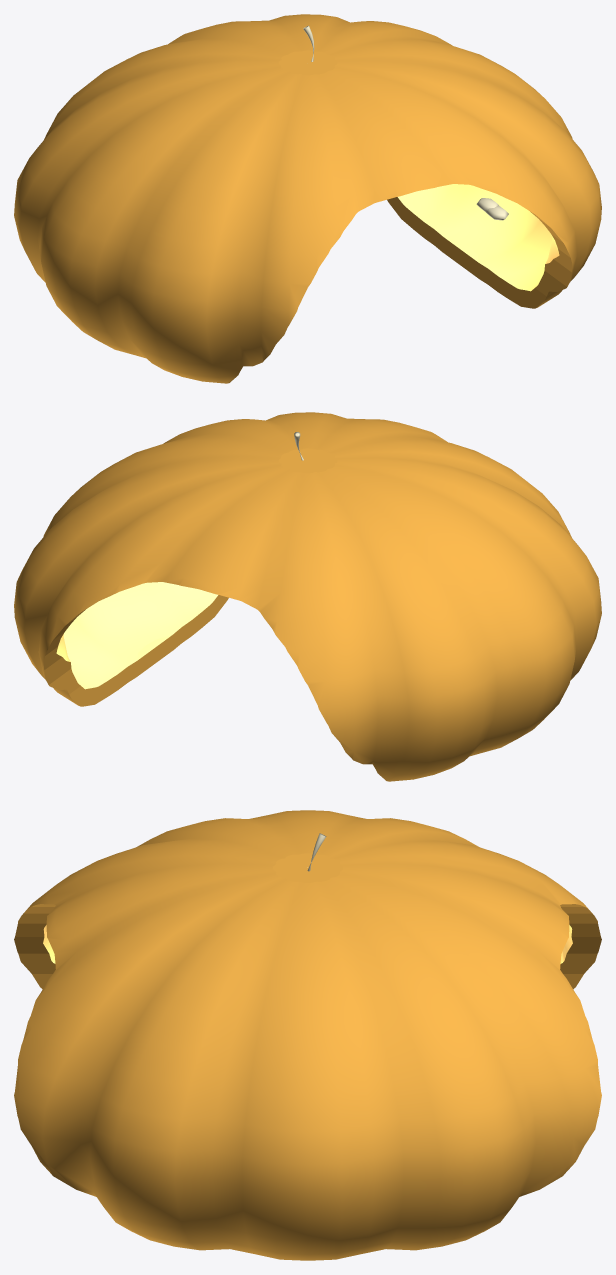
Rendered from kuerbis_tunnel.glb.
3 views of the same model, one above another, from view 1: azimuth 30°, elevation 25°; view 2: azimuth 150°, elevation 25°; view 3: azimuth 270°, elevation 25° (orthographic). The views are drawn at different scales.
Parts seen in each view (by area): view 1: kuerbis_tunnel_lod0; view 2: kuerbis_tunnel_lod0; view 3: kuerbis_tunnel_lod0.
Part boxes in pixels (<box>): kuerbis_tunnel_lod0: <box>14,14,601,383</box>; kuerbis_tunnel_lod0: <box>14,412,601,781</box>; kuerbis_tunnel_lod0: <box>14,810,601,1260</box>.
Size of what is drawn, in the model's own units: 2 by 1.02 by 1.67.
